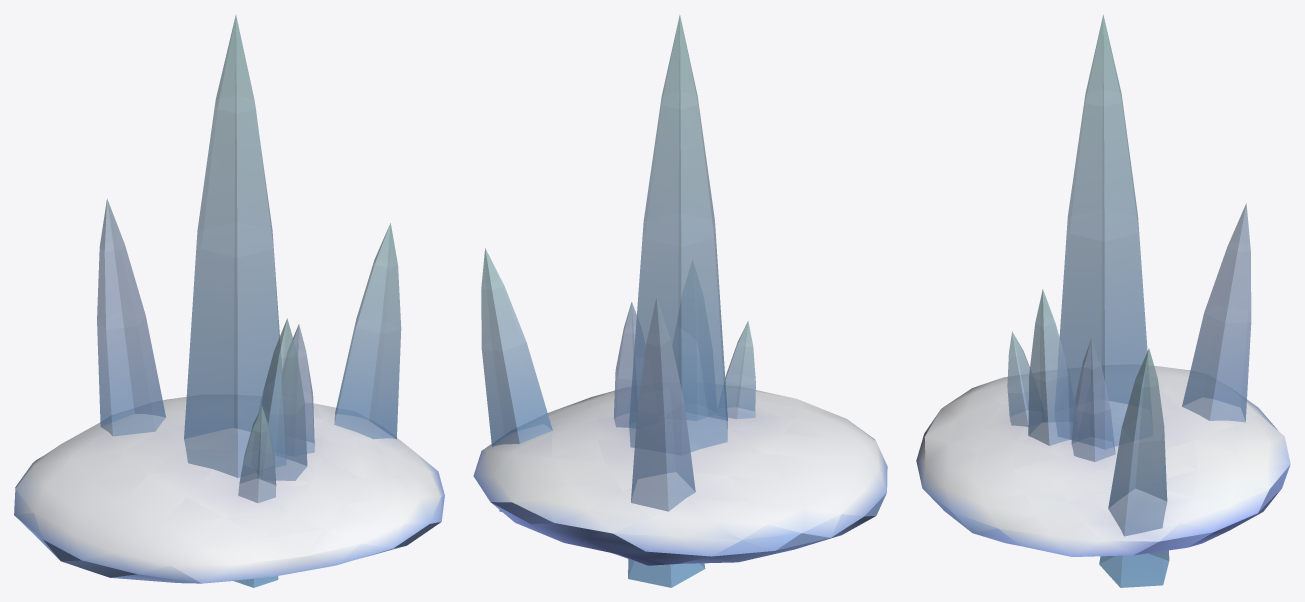
The model's file is glass_misc_ice_spikes_c.glb.
3 renders of one model, left to right at view 1: azimuth 30°, elevation 25°; view 2: azimuth 150°, elevation 25°; view 3: azimuth 270°, elevation 25°, orthographic. The views are drawn at different scales.
Visible parts, largest first — view 1: glass_misc_ice_spikes_c; view 2: glass_misc_ice_spikes_c; view 3: glass_misc_ice_spikes_c.
Part boxes in pixels (bbox=[...]): glass_misc_ice_spikes_c: bbox=[14, 15, 444, 587]; glass_misc_ice_spikes_c: bbox=[473, 14, 887, 587]; glass_misc_ice_spikes_c: bbox=[916, 14, 1290, 587].
Bounding box in the file's own units: 1.41 × 1.9 × 1.29.
